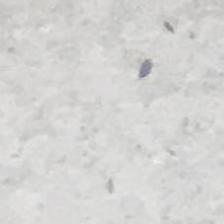Non_Crack: (15, 3, 224, 223)
